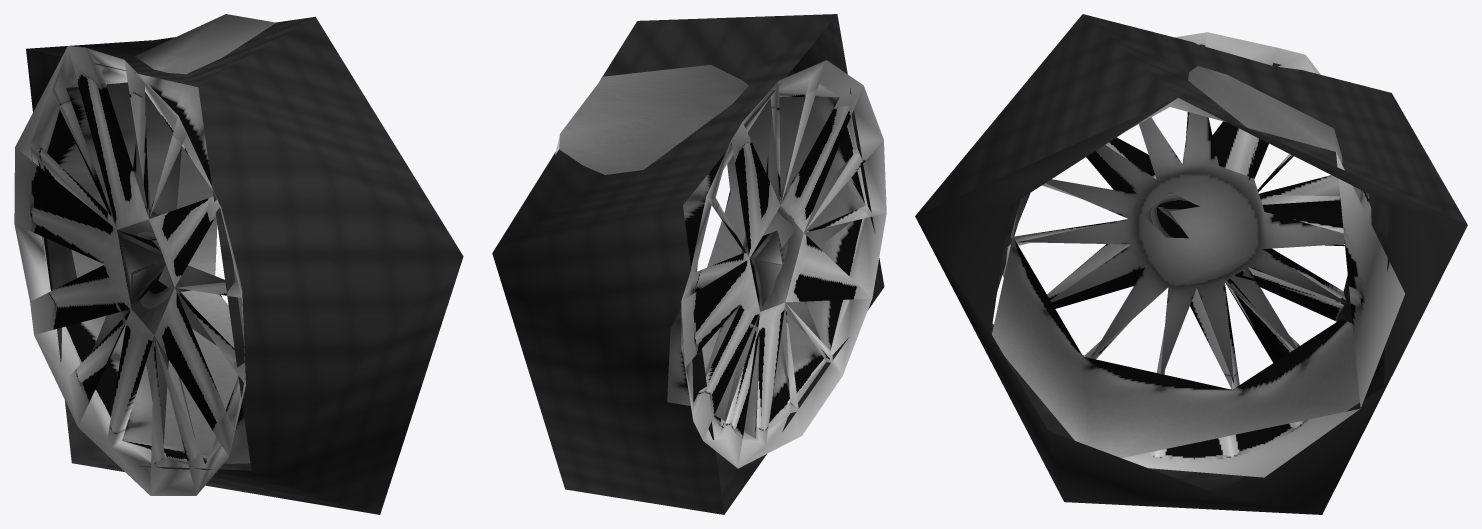
Rendered from FN_wheel_d0.5.obj.
3 views of the same model, side by side, from view 1: azimuth 30°, elevation 25°; view 2: azimuth 150°, elevation 25°; view 3: azimuth 270°, elevation 25° (orthographic). The views are drawn at different scales.
Parts seen in each view (by area): view 1: FN_wheel; view 2: FN_wheel; view 3: FN_wheel.
Part boxes in pixels (left/top/right/bottom): FN_wheel: left=14, top=14, right=463, bottom=514; FN_wheel: left=492, top=14, right=886, bottom=514; FN_wheel: left=915, top=14, right=1467, bottom=514.
Size of the model in its own units: 0.2193 by 0.5528 by 0.6499.
1 material, 1 textured.
